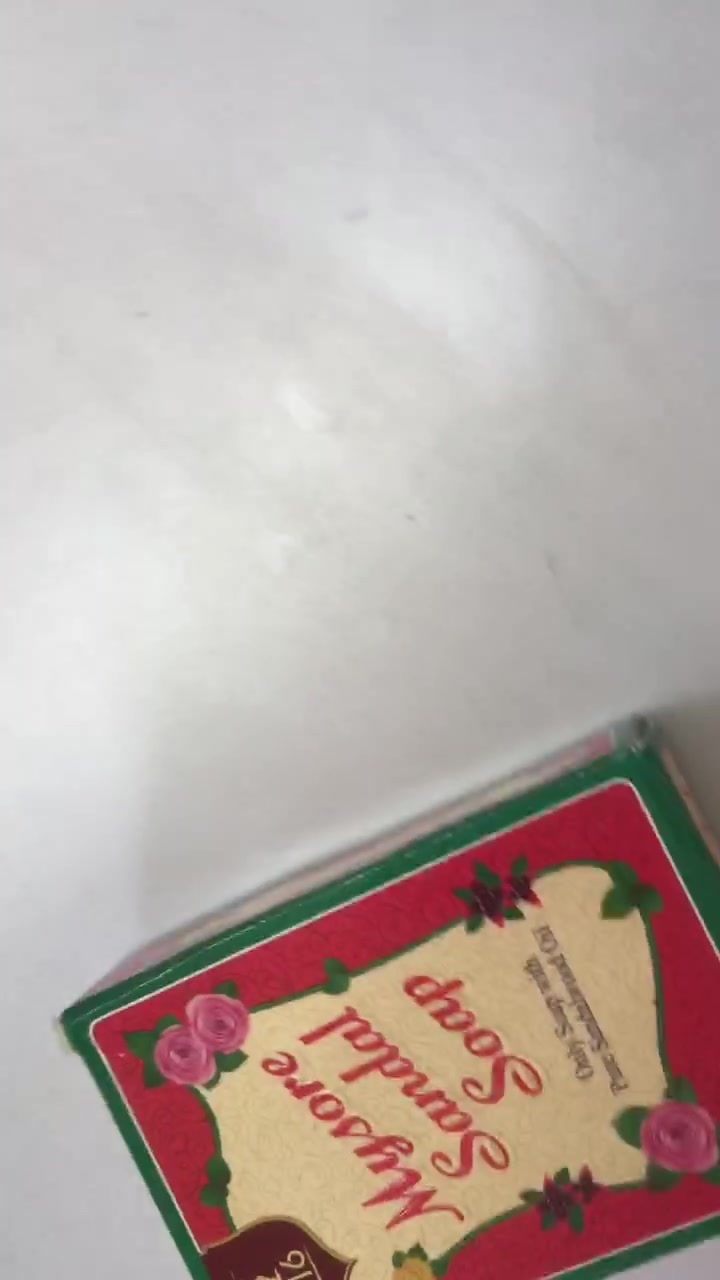mysore sandal soap: (73, 718, 713, 1274)
